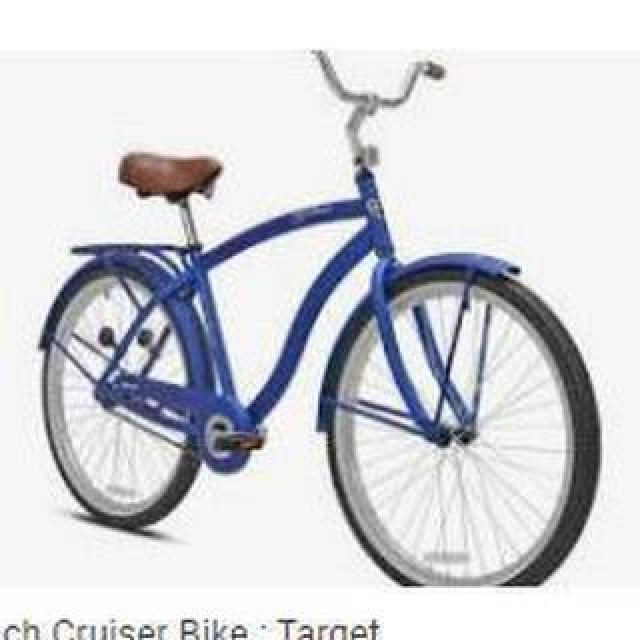Person: (40, 50, 602, 592)
